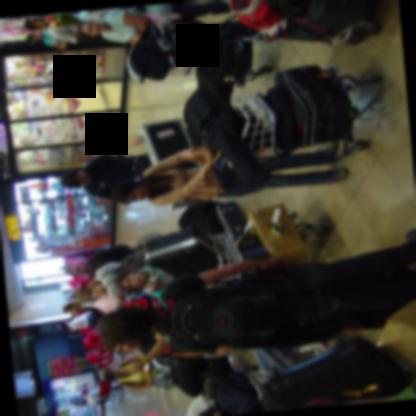backpack: (268, 334, 409, 407), (153, 280, 285, 348), (128, 19, 177, 81)
handbag: (107, 2, 174, 26)
suitcase: (282, 338, 412, 403), (274, 64, 353, 149), (286, 0, 380, 48), (142, 224, 221, 277), (247, 202, 309, 264), (139, 118, 193, 164), (216, 372, 263, 415), (166, 355, 210, 397), (208, 200, 252, 238), (252, 349, 315, 369)
